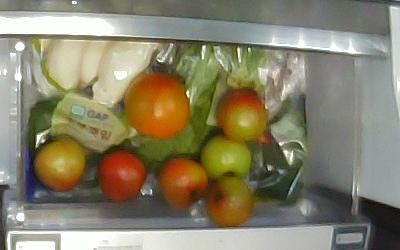tomato: (124, 75, 190, 137), (32, 137, 84, 192), (215, 88, 269, 139), (159, 157, 208, 210), (98, 150, 145, 201), (200, 137, 251, 184), (205, 178, 253, 226)
